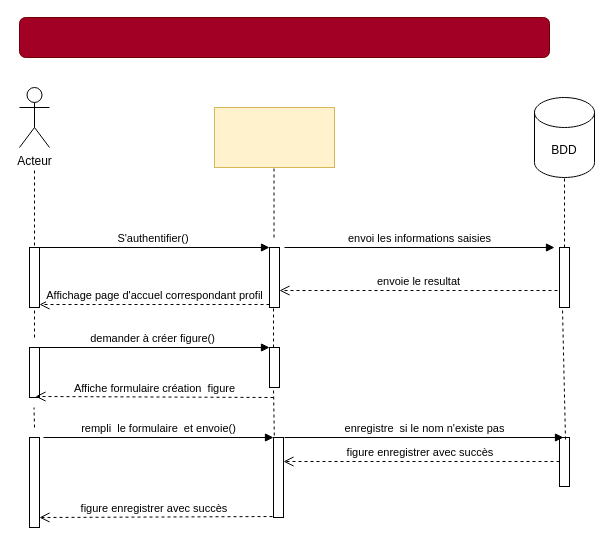
The diagram is 612 pixels wide and 545 high, and some of its shapes have lost their labels. The centre of each missing label's shape, as x and y in pixels:
"Diagramme de Séquence" goes at (x=284, y=37).
"systeme" goes at (x=274, y=137).
